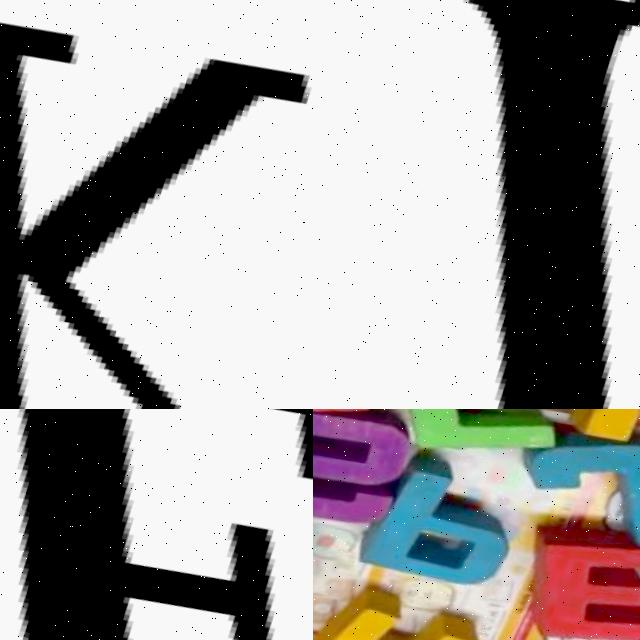1: (313, 0, 640, 409)
E: (20, 409, 279, 640), (518, 523, 640, 640)
F: (375, 409, 598, 485)
J: (524, 422, 640, 568)
K: (0, 0, 313, 409)
P: (362, 456, 546, 606)
R: (313, 577, 503, 640)
S: (313, 409, 429, 541)
